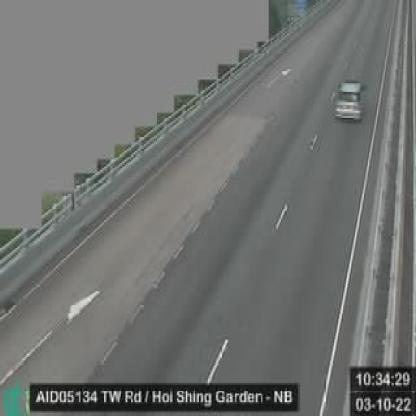Car: (336, 78, 366, 120)
